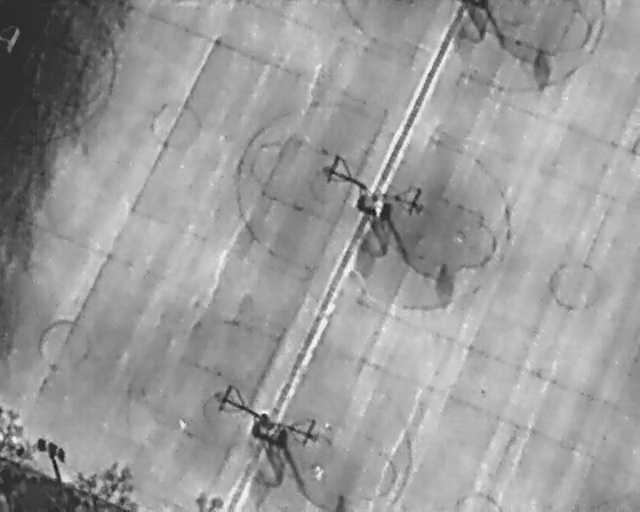Person: (176, 417, 188, 433), (312, 464, 323, 480)
